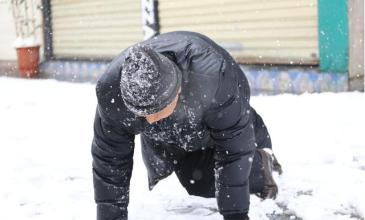fall: (69, 25, 295, 216)
